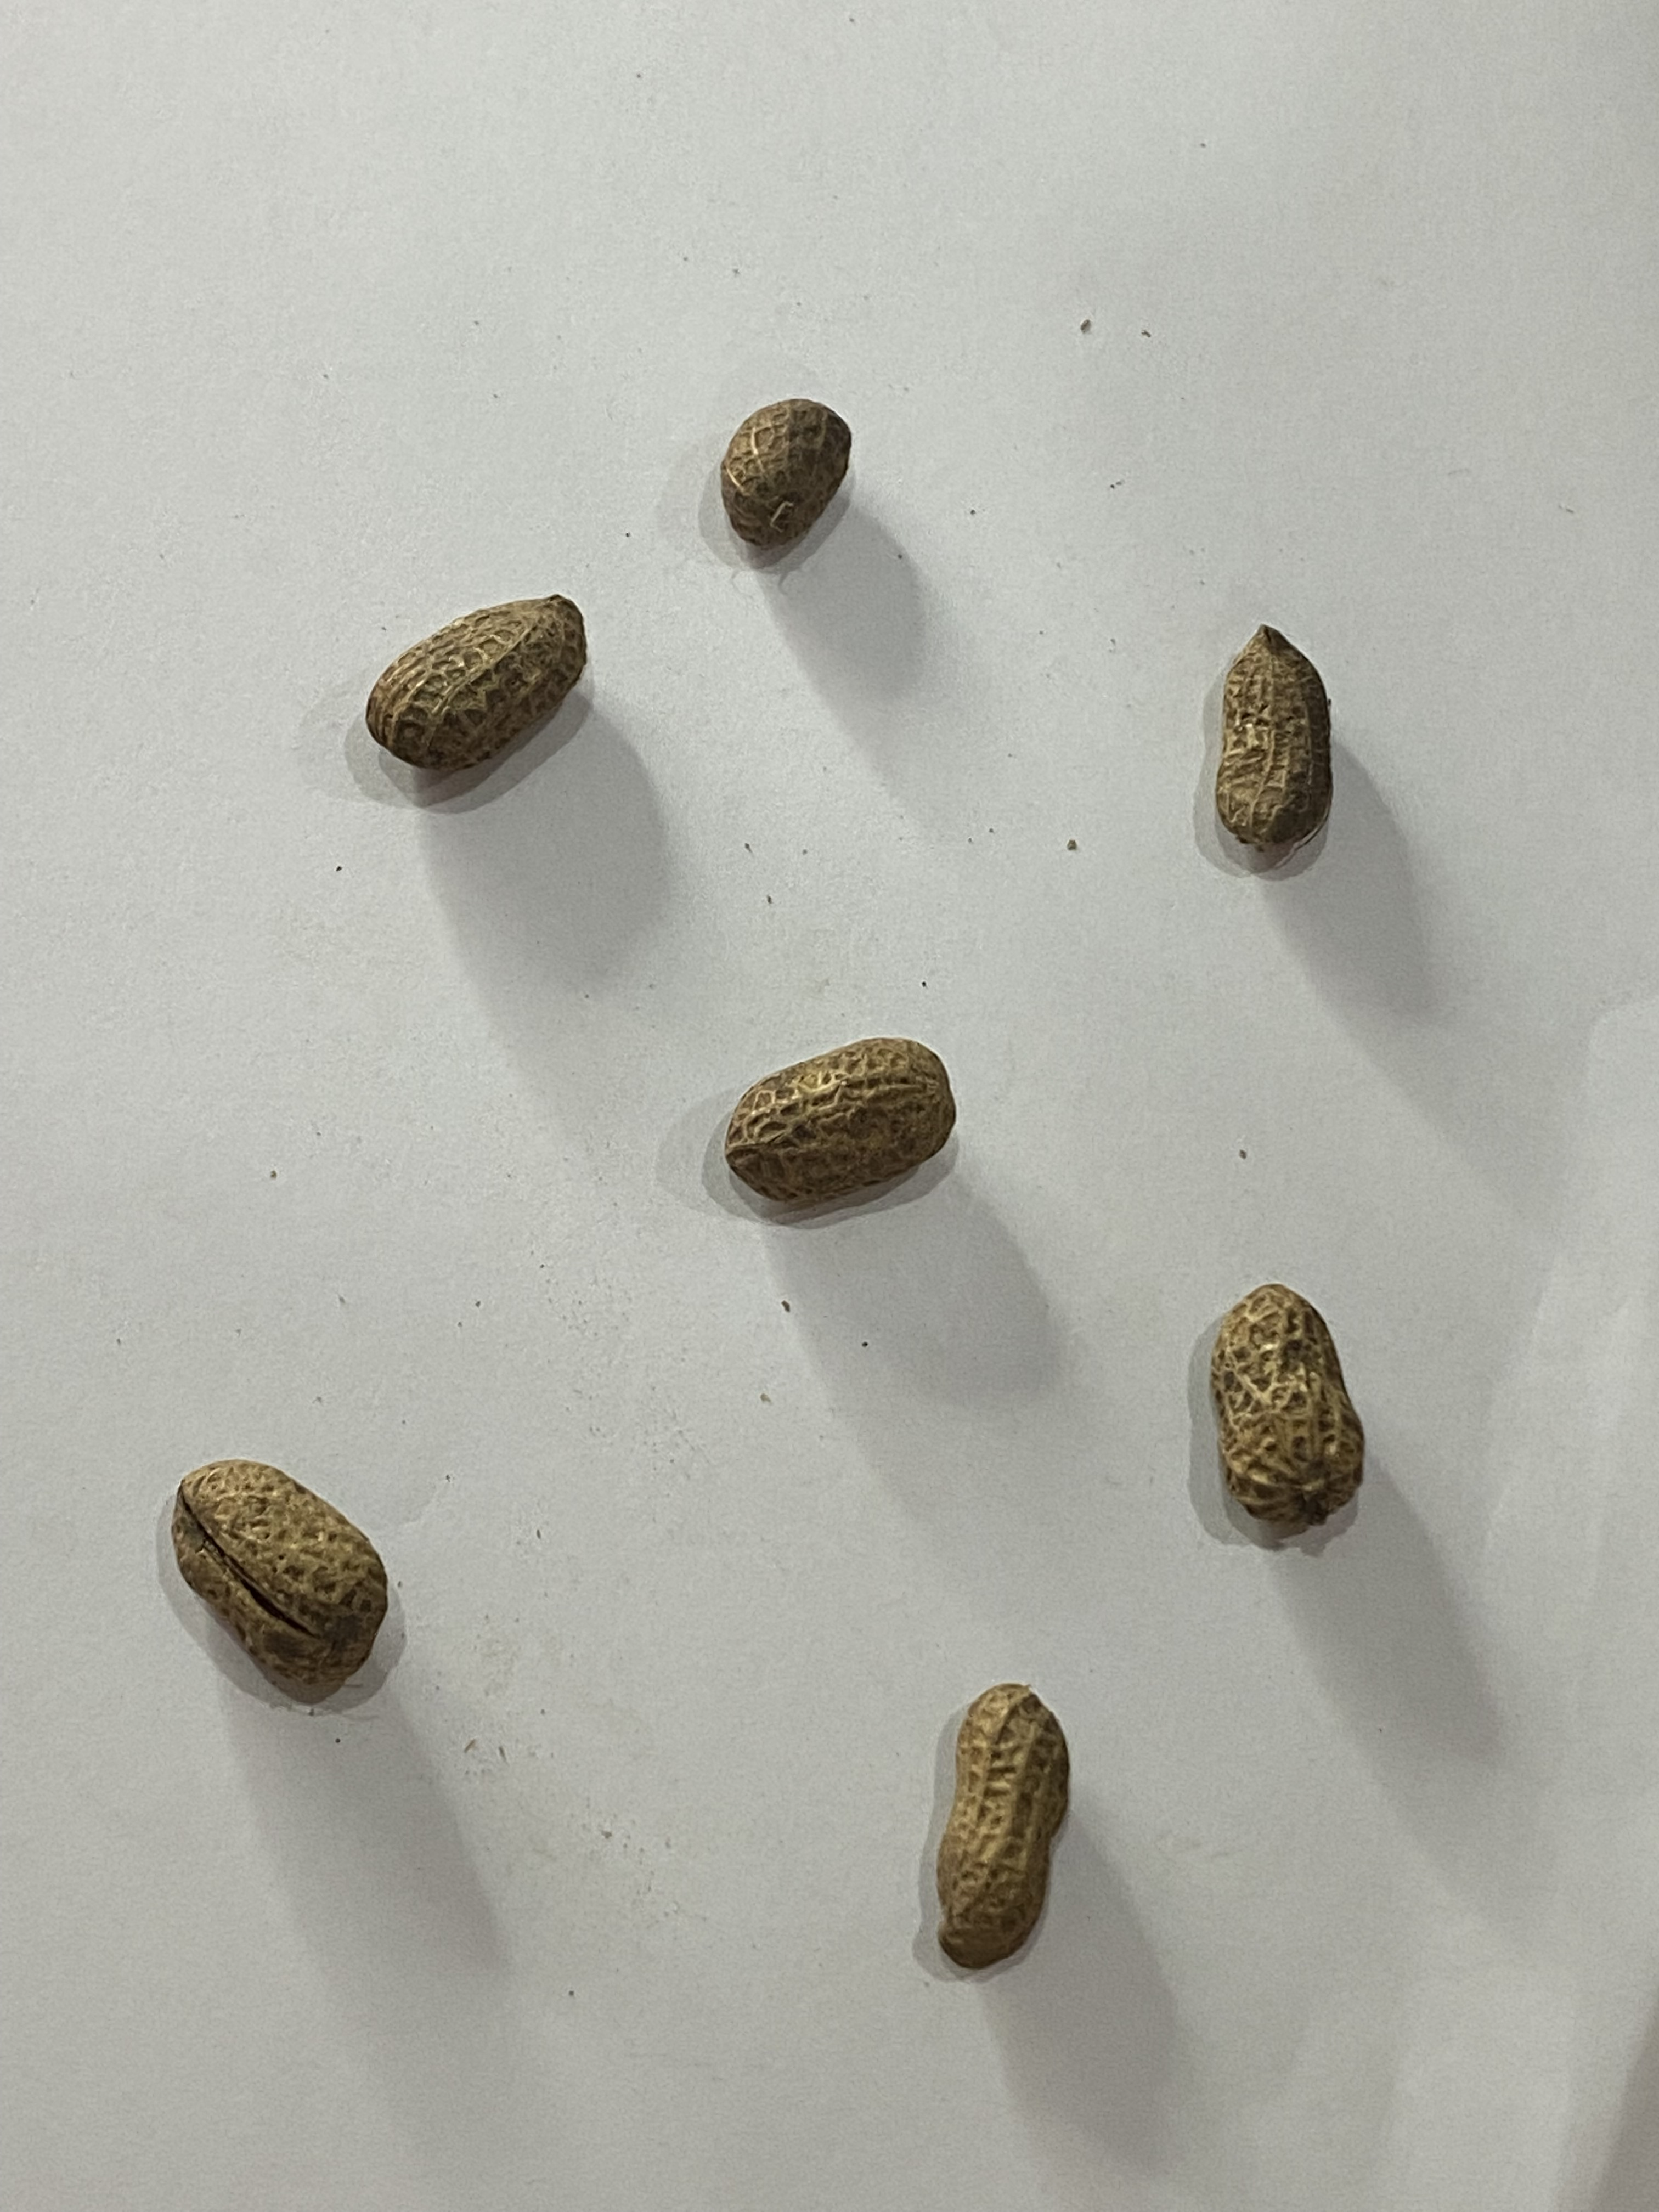kacang1: (136, 1428, 455, 1696), (676, 1031, 1054, 1231), (357, 559, 598, 791), (680, 348, 896, 568)
kacang2: (878, 1634, 1105, 1991), (1157, 1273, 1403, 1527), (1147, 610, 1349, 869)
